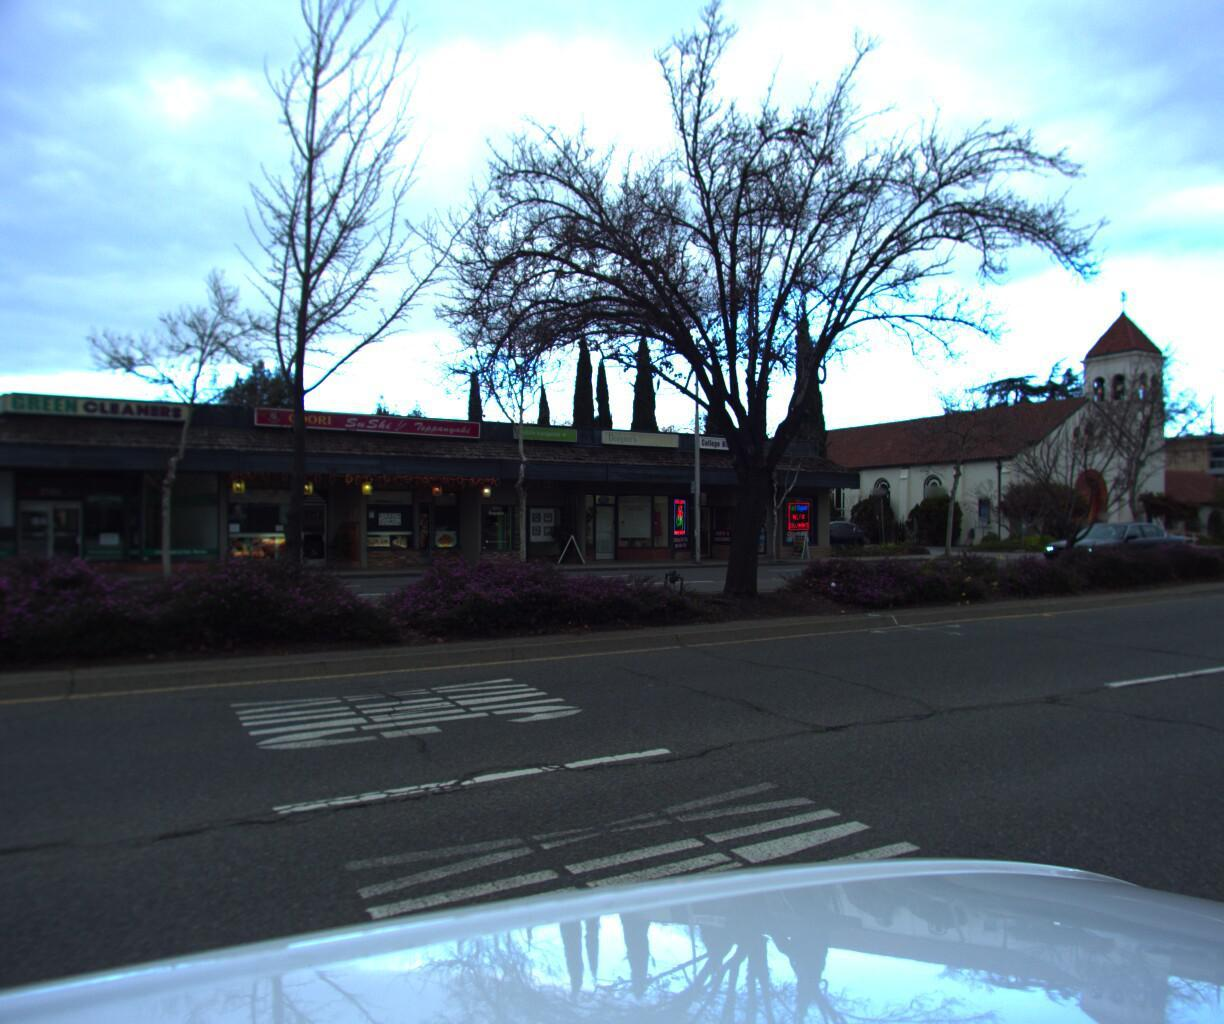car: (1031, 513, 1186, 576)
